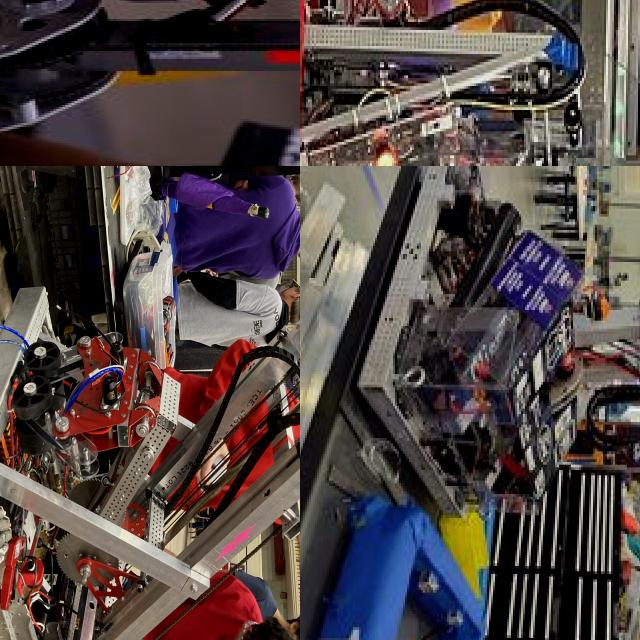FRC-Robots: (0, 218, 300, 640), (339, 166, 640, 489), (300, 0, 615, 166), (0, 0, 300, 143)
